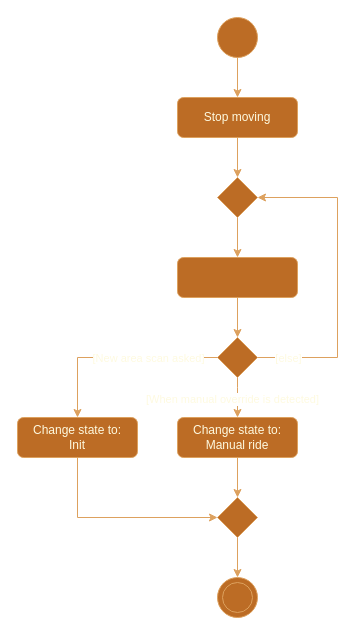
The diagram is 363 pixels wide and 635 high, and some of its shapes have lost their labels. Each missing label, with the centre of its shape:
"Check for manual override / New area scan input." goes at (237,277).
"Lost" goes at (237,37).
